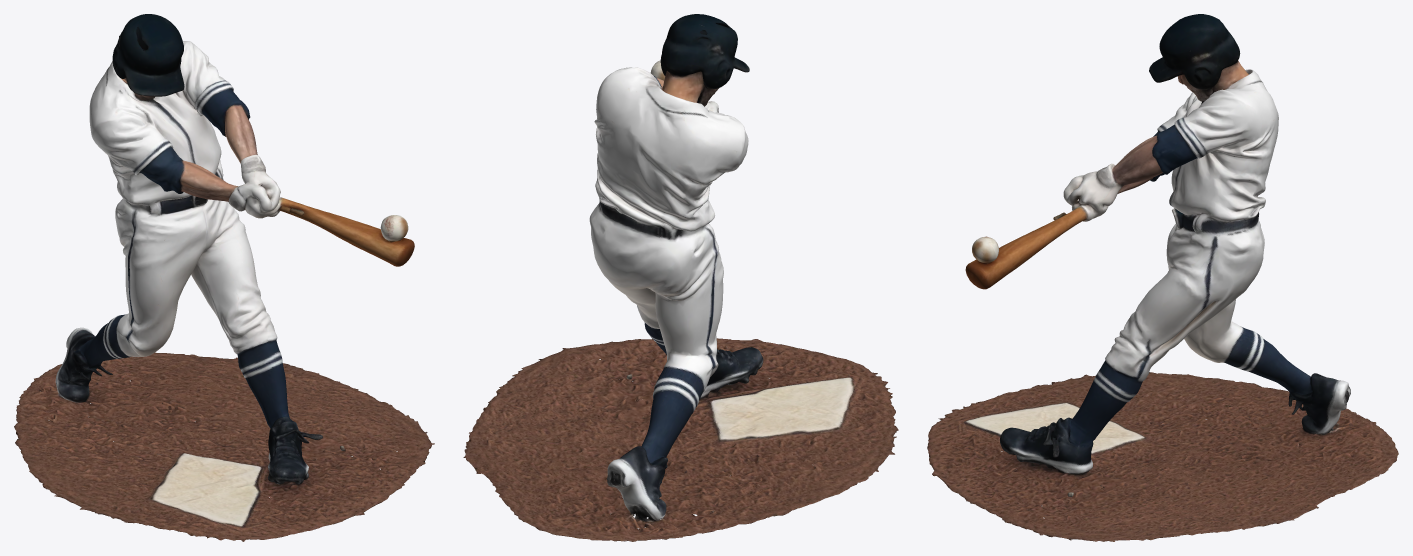
Rendered from baseball-impact.glb.
3 renders of one model, left to right at view 1: azimuth 30°, elevation 25°; view 2: azimuth 150°, elevation 25°; view 3: azimuth 270°, elevation 25°, orthographic. The views are drawn at different scales.
Visible parts, largest first — view 1: geometry_0; view 2: geometry_0; view 3: geometry_0.
Boxes of the visible parts, x1,y1,x2,y2 form: geometry_0: (14, 14, 434, 541); geometry_0: (463, 14, 898, 541); geometry_0: (927, 14, 1398, 541).
Bounding box in the file's own units: 0.8537 × 0.9871 × 0.9993.
1 material, 1 textured.
